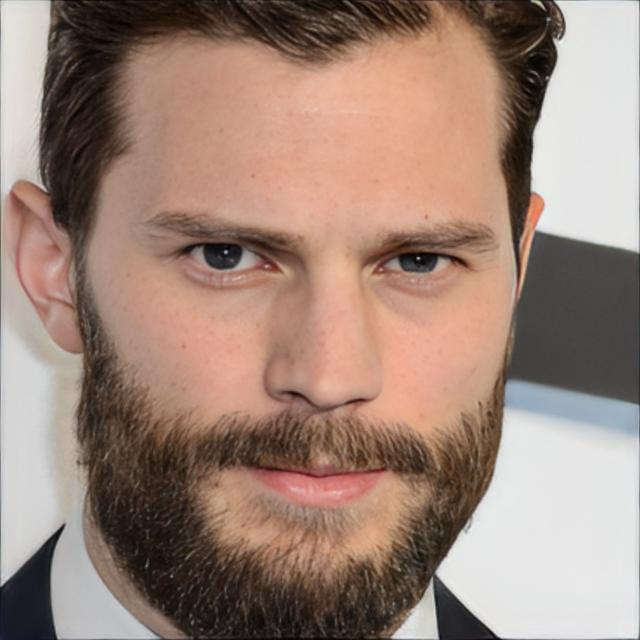content: (95, 27, 518, 628)
